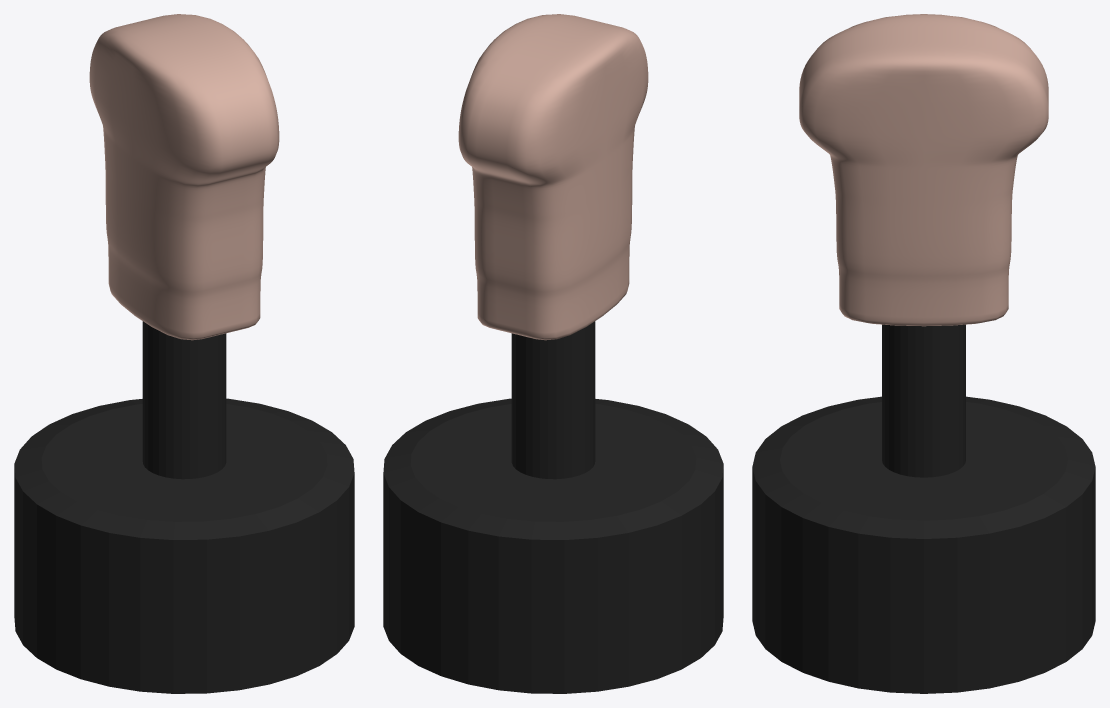
File: frpncdm.fbx
3 views of the same model, side by side, from view 1: azimuth 30°, elevation 25°; view 2: azimuth 150°, elevation 25°; view 3: azimuth 270°, elevation 25° (orthographic).
Parts seen in each view (by area): view 1: Cylinder, Cube.001, Cylinder.002; view 2: Cylinder, Cube.001, Cylinder.002; view 3: Cylinder, Cube.001, Cylinder.002.
Boxes of the visible parts, x1,y1,x2,y2 form: Cylinder: (14,398,354,693); Cube.001: (89,14,279,340); Cylinder.002: (142,321,226,479); Cylinder: (383,398,723,693); Cube.001: (458,14,648,340); Cylinder.002: (511,321,595,479); Cylinder: (752,396,1095,693); Cube.001: (799,14,1048,326); Cylinder.002: (882,324,965,477).
Size of the model in its own units: 421 by 796 by 421.
